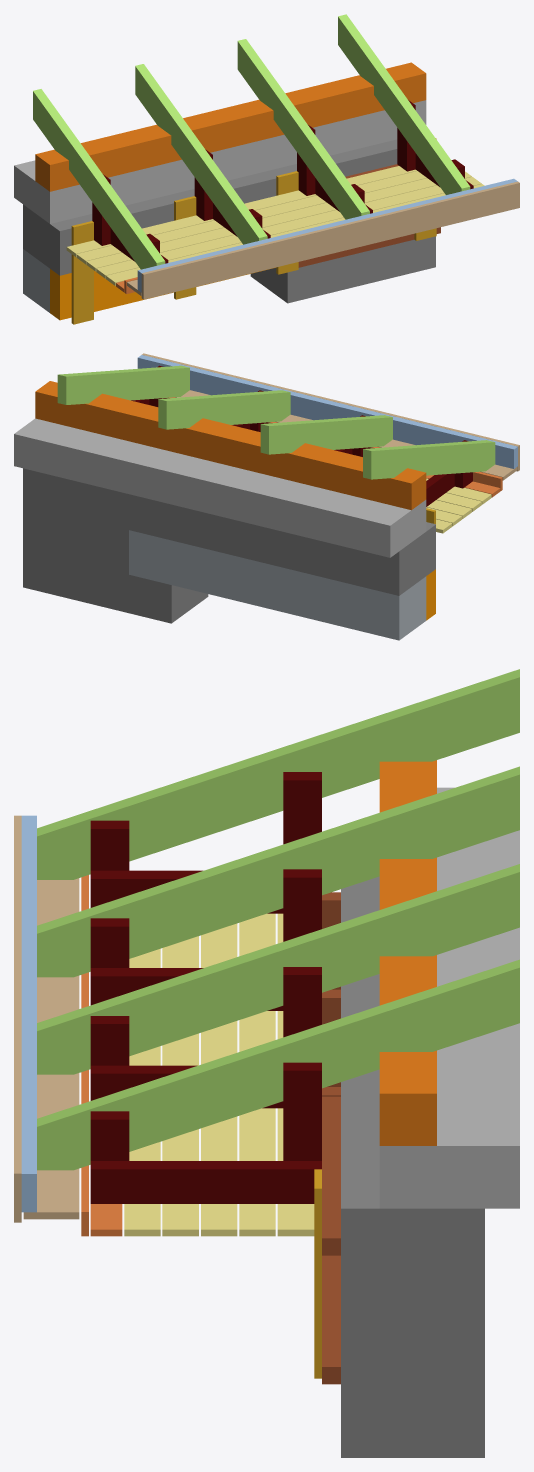
Rendered from perimetr.glb.
3 renders of one model, top to bottom at view 1: azimuth 30°, elevation 25°; view 2: azimuth 150°, elevation 25°; view 3: azimuth 270°, elevation 25°, orthographic. The views are drawn at different scales.
Parts seen in each view (by area): view 1: РљРѕРјРїРѕРЅР_РЅС__337.001, РљРѕРјРїРѕРЅР_РЅС__367.001, РљРѕРјРїРѕРЅР_РЅС__343.001, РљРѕРјРїРѕРЅР_РЅС__338.001, РљРѕРјРїРѕРЅР_РЅС__341.001, РљРѕРјРїРѕРЅР_РЅС__340.001, РљРѕРјРїРѕРЅР_РЅС__342.001, РљРѕРјРїРѕРЅР_РЅС__339.001, РљРѕРјРїРѕРЅР_РЅС__346.001, РљРѕРјРїРѕРЅР_РЅС__350.001, РљРѕРјРїРѕРЅР_РЅС__351.001, РљРѕРјРїРѕРЅР_РЅС__352.001 (+12 smaller); view 2: РљРѕРјРїРѕРЅР_РЅС__337.001, РљРѕРјРїРѕРЅР_РЅС__338.001, РљРѕРјРїРѕРЅР_РЅС__367.001, РљРѕРјРїРѕРЅР_РЅС__344.001, РљРѕРјРїРѕРЅР_РЅС__361.001, РљРѕРјРїРѕРЅР_РЅС__339.001, РљРѕРјРїРѕРЅР_РЅС__340.001, РљРѕРјРїРѕРЅР_РЅС__341.001, РљРѕРјРїРѕРЅР_РЅС__342.001, РљРѕРјРїРѕРЅР_РЅС__343.001, РљРѕРјРїРѕРЅР_РЅС__347.001, РљРѕРјРїРѕРЅР_РЅС__366.001 (+5 smaller); view 3: РљРѕРјРїРѕРЅР_РЅС__337.001, РљРѕРјРїРѕРЅР_РЅС__340.001, РљРѕРјРїРѕРЅР_РЅС__342.001, РљРѕРјРїРѕРЅР_РЅС__341.001, РљРѕРјРїРѕРЅР_РЅС__339.001, РљРѕРјРїРѕРЅР_РЅС__338.001, РљРѕРјРїРѕРЅР_РЅС__367.001, РљРѕРјРїРѕРЅР_РЅС__363.001, РљРѕРјРїРѕРЅР_РЅС__347.001, РљРѕРјРїРѕРЅР_РЅС__361.001, РљРѕРјРїРѕРЅР_РЅС__351.001, РљРѕРјРїРѕРЅР_РЅС__350.001 (+20 smaller).
Boxes of the visible parts, x1,y1,x2,y2 form: РљРѕРјРїРѕРЅР_РЅС__337.001: (23,139,435,303); РљРѕРјРїРѕРЅР_РЅС__367.001: (35,62,426,191); РљРѕРјРїРѕРЅР_РЅС__343.001: (141,181,519,299); РљРѕРјРїРѕРЅР_РЅС__338.001: (14,100,426,223); РљРѕРјРїРѕРЅР_РЅС__341.001: (237,39,369,219); РљРѕРјРїРѕРЅР_РЅС__340.001: (135,64,267,244); РљРѕРјРїРѕРЅР_РЅС__342.001: (338,14,470,194); РљРѕРјРїРѕРЅР_РЅС__339.001: (33,89,165,269); РљРѕРјРїРѕРЅР_РЅС__346.001: (96,177,481,278); РљРѕРјРїРѕРЅР_РЅС__350.001: (86,171,471,271); РљРѕРјРїРѕРЅР_РЅС__351.001: (76,171,426,264); РљРѕРјРїРѕРЅР_РЅС__352.001: (66,166,416,257); РљРѕРјРїРѕРЅР_РЅС__337.001: (23,468,435,623); РљРѕРјРїРѕРЅР_РЅС__338.001: (14,418,426,557); РљРѕРјРїРѕРЅР_РЅС__367.001: (35,381,426,510); РљРѕРјРїРѕРЅР_РЅС__344.001: (129,530,426,640); РљРѕРјРїРѕРЅР_РЅС__361.001: (137,355,517,468); РљРѕРјРїРѕРЅР_РЅС__339.001: (363,440,495,479); РљРѕРјРїРѕРЅР_РЅС__340.001: (260,415,392,454); РљРѕРјРїРѕРЅР_РЅС__341.001: (158,390,290,429); РљРѕРјРїРѕРЅР_РЅС__342.001: (57,365,189,404); РљРѕРјРїРѕРЅР_РЅС__343.001: (142,353,519,471); РљРѕРјРїРѕРЅР_РЅС__347.001: (175,390,517,480); РљРѕРјРїРѕРЅР_РЅС__366.001: (426,473,454,506); РљРѕРјРїРѕРЅР_РЅС__337.001: (341,876,484,1457); РљРѕРјРїРѕРЅР_РЅС__340.001: (37,766,519,977); РљРѕРјРїРѕРЅР_РЅС__342.001: (37,959,519,1170); РљРѕРјРїРѕРЅР_РЅС__341.001: (37,864,519,1074); РљРѕРјРїРѕРЅР_РЅС__339.001: (37,669,519,879); РљРѕРјРїРѕРЅР_РЅС__338.001: (379,787,519,1208); РљРѕРјРїРѕРЅР_РЅС__367.001: (379,760,436,1145); РљРѕРјРїРѕРЅР_РЅС__363.001: (90,1161,321,1203); РљРѕРјРїРѕРЅР_РЅС__347.001: (23,878,79,1219); РљРѕРјРїРѕРЅР_РЅС__361.001: (21,815,36,1212); РљРѕРјРїРѕРЅР_РЅС__351.001: (239,913,275,1236); РљРѕРјРїРѕРЅР_РЅС__350.001: (201,923,237,1236).
Size of the model in its own units: 2.21 by 1.29 by 1.32.
